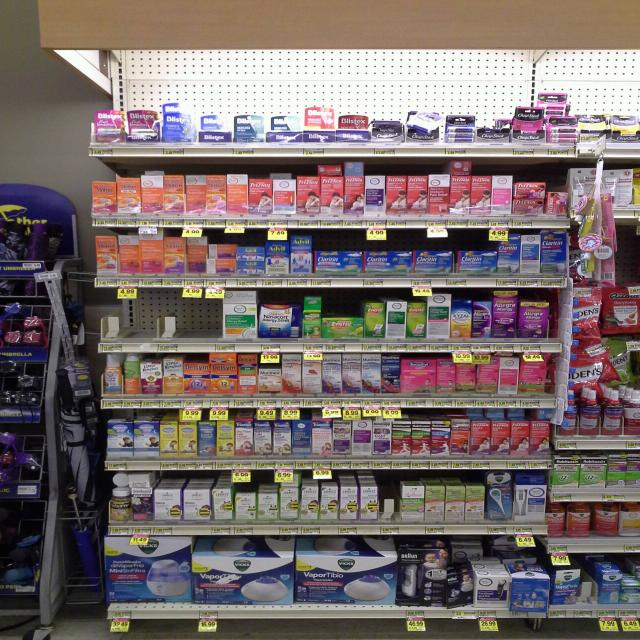empty: (101, 289, 220, 344), (376, 472, 403, 523)
